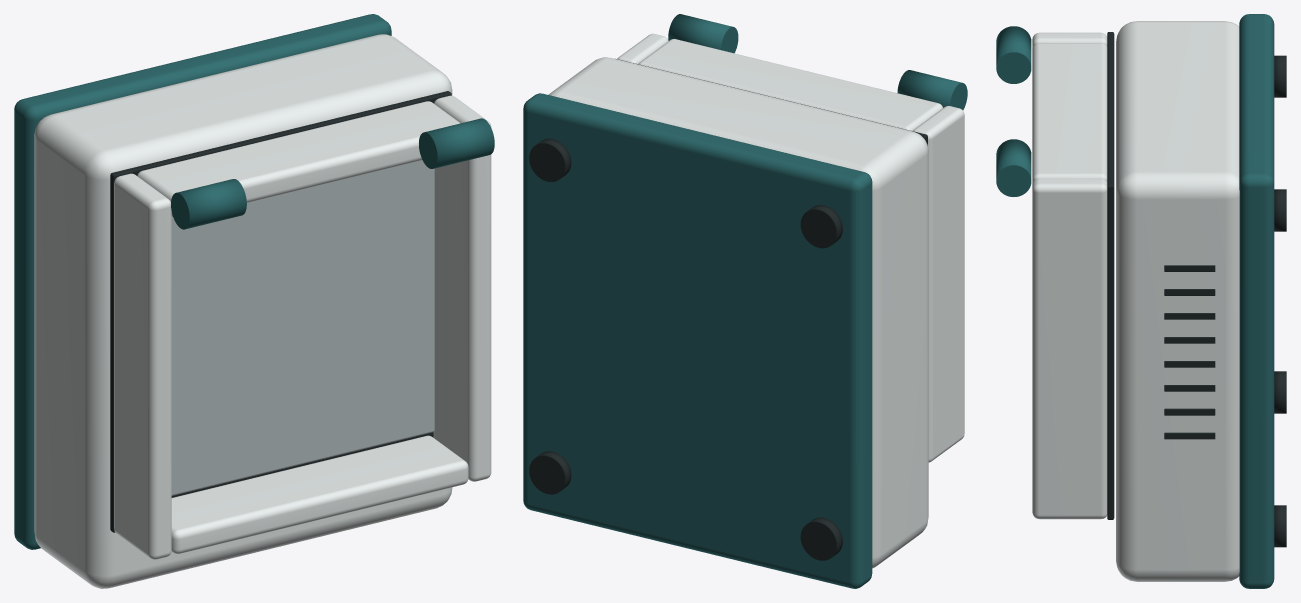
The model's file is body.glb.
3 renders of one model, left to right at view 1: azimuth 30°, elevation 25°; view 2: azimuth 150°, elevation 25°; view 3: azimuth 270°, elevation 25°, orthographic. The views are drawn at different scales.
Visible parts, largest first — view 1: chamber_floor, housing, chamber_rim_left, chamber_rim_right, base, chamber_rim_front, chamber_rim_rear, upper_seam, lid_hinge_-0.076, lid_hinge_0.076; view 2: base, housing, chamber_rim_left, chamber_rim_rear, lid_hinge_-0.076, lid_hinge_0.076, foot_0_0, foot_1_0, foot_1_1, foot_0_1, chamber_rim_right; view 3: housing, chamber_rim_right, base, chamber_rim_rear, upper_seam, lid_hinge_-0.076, lid_hinge_0.076, chamber_rim_left, foot_0_0, foot_0_1, foot_1_0, foot_1_1 (+2 smaller).
Boxes of the visible parts, x1,y1,x2,y2 form: chamber_floor: (171, 160, 434, 495); housing: (34, 34, 452, 588); chamber_rim_left: (114, 173, 171, 559); chamber_rim_right: (433, 95, 491, 481); base: (14, 14, 391, 549); chamber_rim_front: (171, 435, 468, 554); chamber_rim_rear: (137, 101, 460, 218); upper_seam: (110, 91, 451, 532); lid_hinge_-0.076: (171, 179, 246, 229); lid_hinge_0.076: (419, 118, 494, 168); base: (523, 93, 872, 588); housing: (548, 57, 928, 568); chamber_rim_left: (913, 106, 964, 462); chamber_rim_rear: (638, 39, 942, 130); lid_hinge_-0.076: (897, 70, 967, 110); lid_hinge_0.076: (668, 14, 738, 53); foot_0_0: (800, 517, 842, 560); foot_1_0: (529, 451, 571, 494); foot_1_1: (529, 138, 571, 181); foot_0_1: (800, 205, 842, 248); chamber_rim_right: (617, 33, 668, 63); housing: (1116, 21, 1239, 581); chamber_rim_right: (1032, 178, 1107, 519); base: (1239, 14, 1274, 588); chamber_rim_rear: (1032, 43, 1107, 184); upper_seam: (1107, 32, 1114, 519); lid_hinge_-0.076: (996, 26, 1031, 83); lid_hinge_0.076: (996, 139, 1031, 196); chamber_rim_left: (1032, 32, 1107, 48); foot_0_0: (1274, 371, 1286, 413); foot_0_1: (1274, 55, 1286, 97); foot_1_0: (1274, 505, 1286, 547); foot_1_1: (1274, 189, 1286, 231).
Bounding box in the file's own units: 0.2253 × 0.2617 × 0.165.
